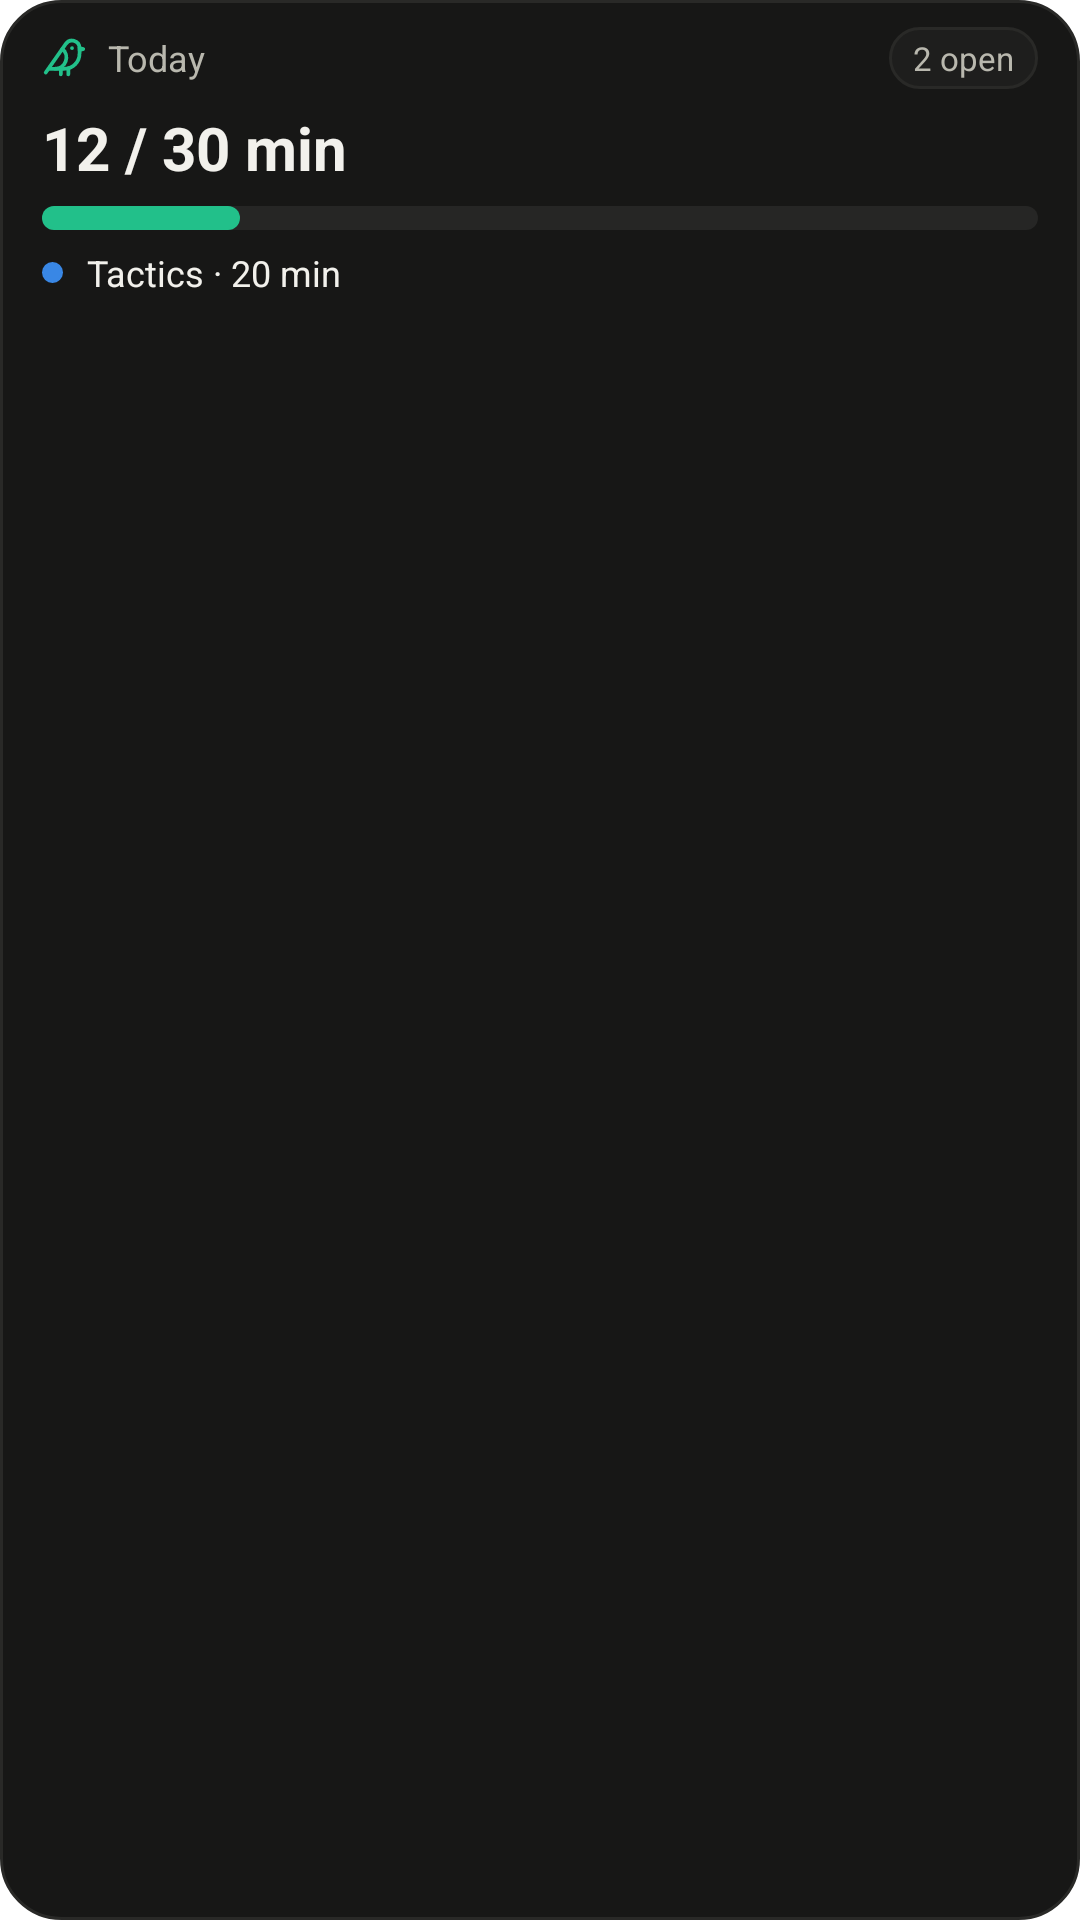

Screen size 1080px×1920px. Icon name, then its center in pixels as [x,y]:
widget bird: [64,57]
